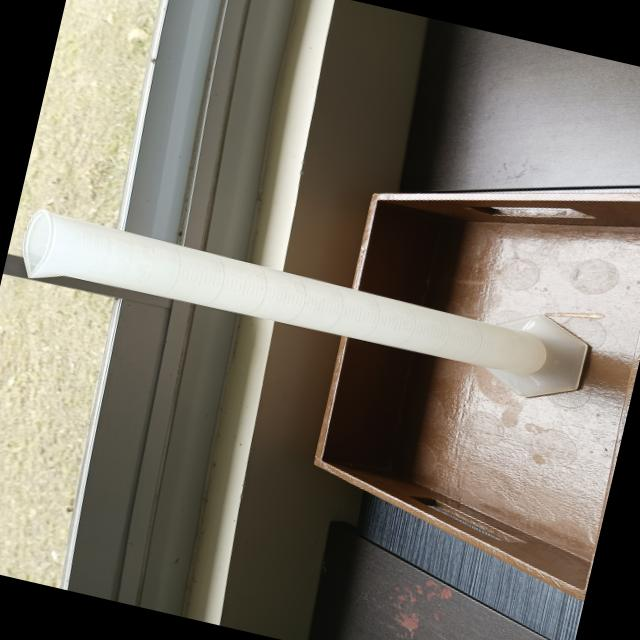graduated_cylinder: (5, 177, 609, 434)
